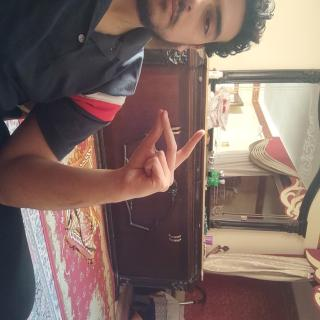TAA: (80, 148, 154, 274)
